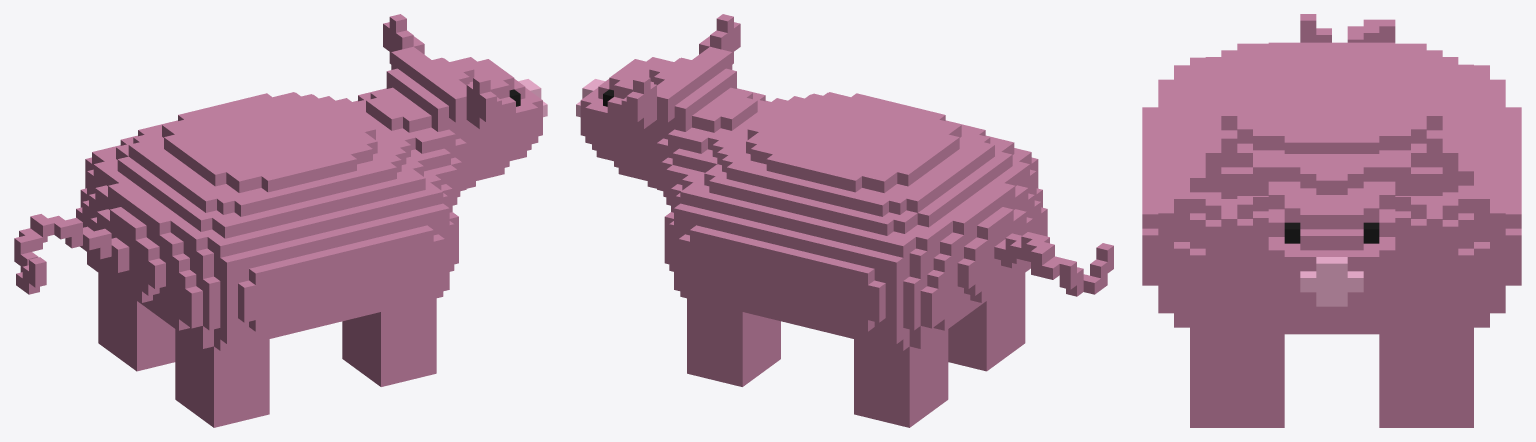
Rendered from Pig_Idle01.obj.
3 views of the same model, side by side, from view 1: azimuth 30°, elevation 25°; view 2: azimuth 150°, elevation 25°; view 3: azimuth 270°, elevation 25° (orthographic). The views are drawn at different scales.
Size of the model in its own units: 46 by 23 by 24.
1 material, 1 textured.
